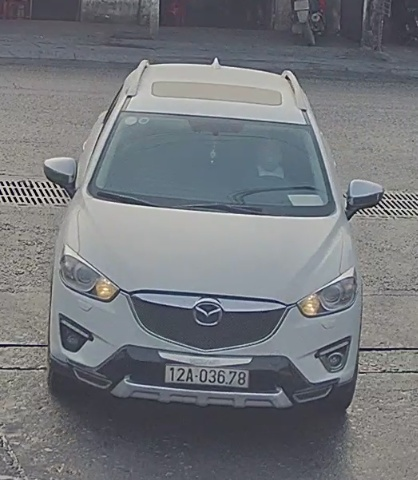vehicle plate: (161, 355, 255, 389)
